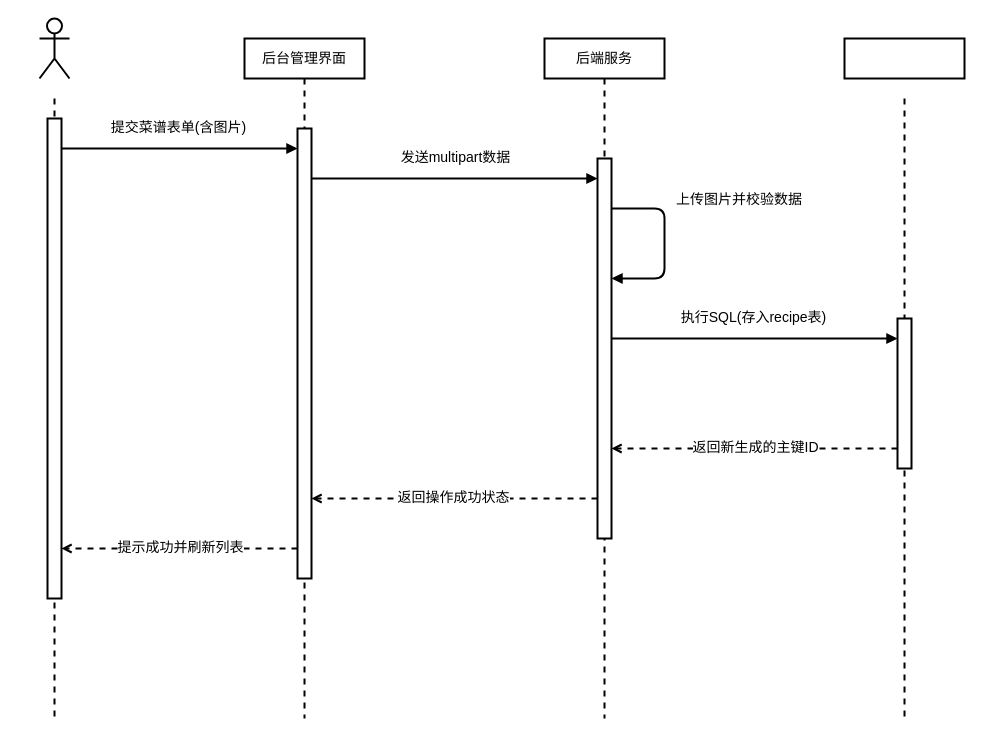
The diagram is 982 pixels wide and 737 high, and some of its shapes have lost their labels. The shapes that lost their labels are listed below. From the top down, each one's centre as x and y in pixels, then its label:
At pixel 54 48: "商家/管理员".
At pixel 904 58: "数据库".
